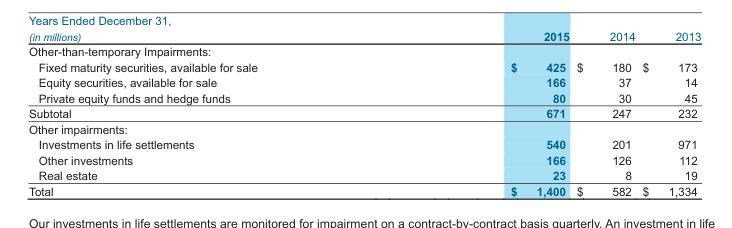table: (28, 29, 700, 197)
table column: (28, 29, 383, 197), (383, 29, 572, 197), (572, 29, 638, 197), (638, 29, 700, 197)
table column header: (28, 29, 700, 43)
table projected row header: (28, 43, 700, 59), (28, 121, 700, 136)
table row: (28, 43, 700, 59), (28, 74, 700, 90), (28, 105, 700, 121), (28, 136, 700, 152), (28, 167, 700, 183), (28, 59, 700, 74), (28, 90, 700, 105), (28, 121, 700, 136), (28, 152, 700, 167), (28, 29, 700, 43), (28, 183, 700, 197)
